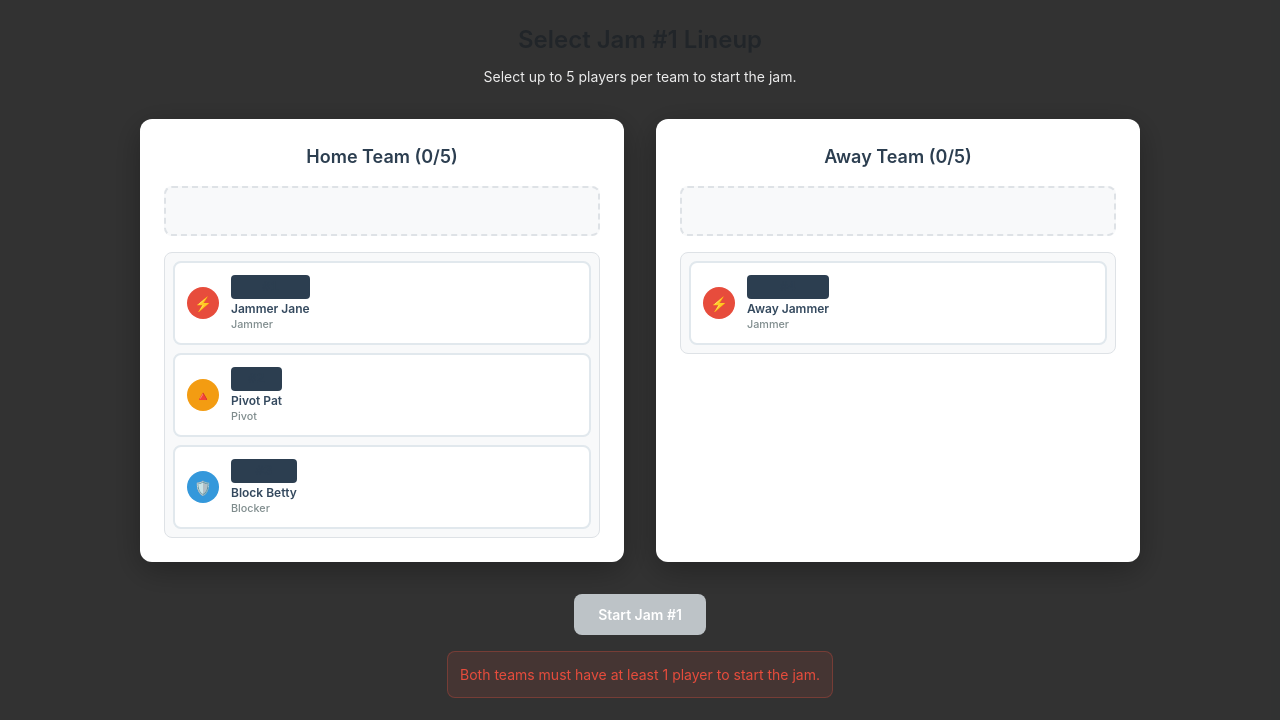
Scenario: JamLineupSelector Component › allows removing selected players
Select a player
Click the text "Jammer Jane".
click(270, 308)  # box [231,301,310,316]
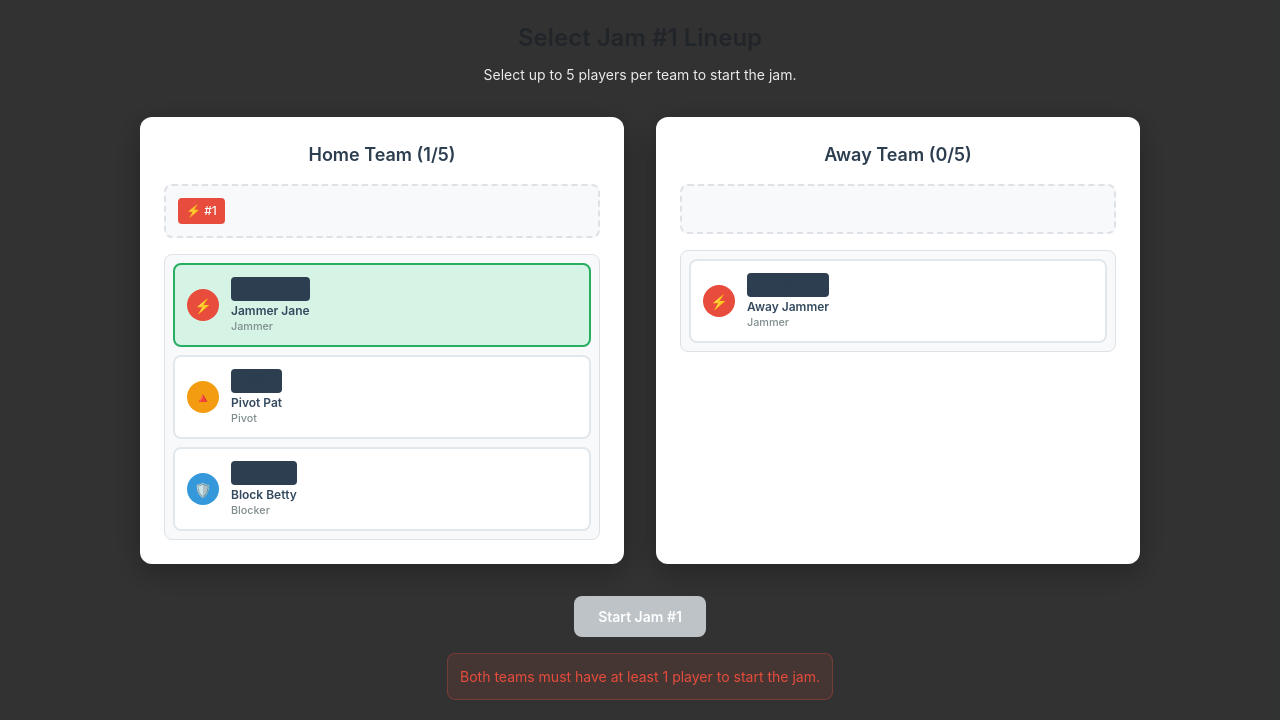
expect the heading "Home Team (1/5)" is shown: met, box [308,144,456,165]
Click again to deselect
Click the text "Jammer Jane".
click(270, 310)  # box [231,303,310,318]
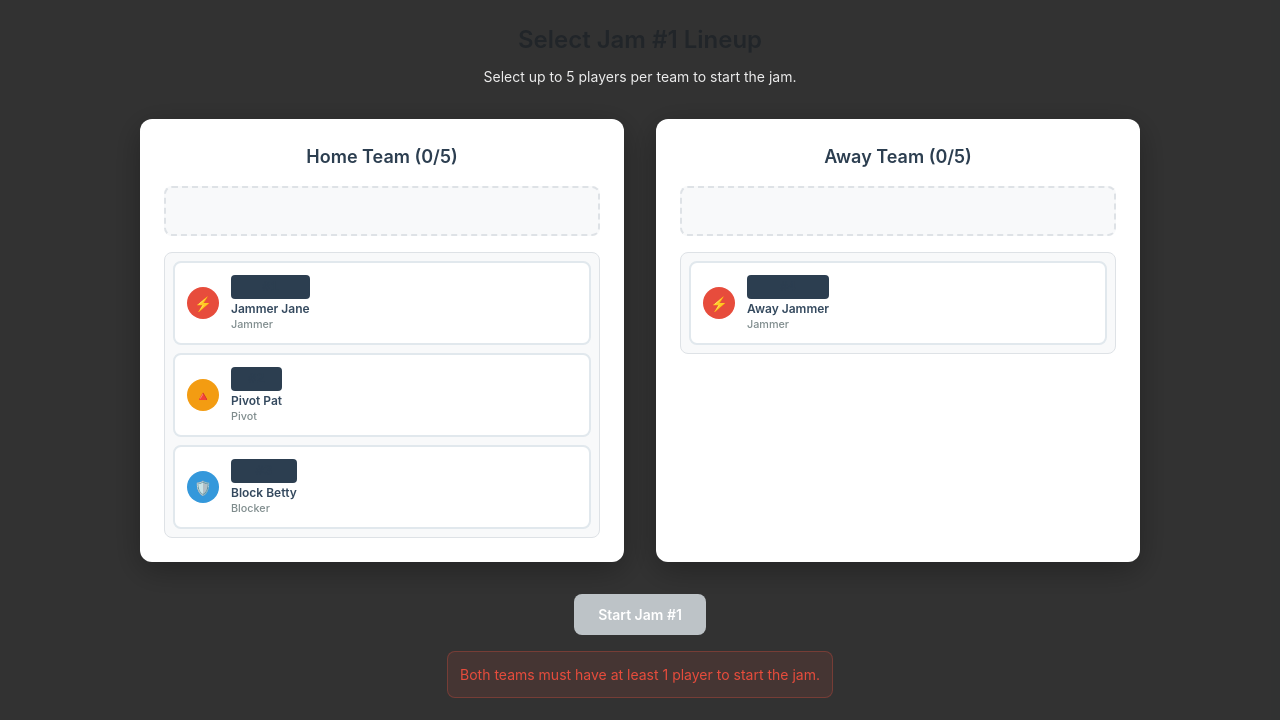
expect the heading "Home Team (0/5)" is shown: met, box [306,146,458,167]
